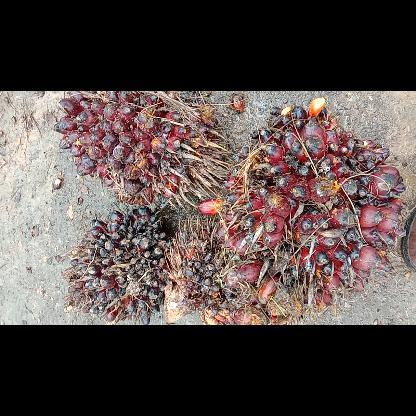Kurang masak: (198, 98, 404, 314)
TBS abnormal: (164, 214, 289, 324), (66, 206, 172, 324)
TBS masak: (53, 90, 233, 208)
